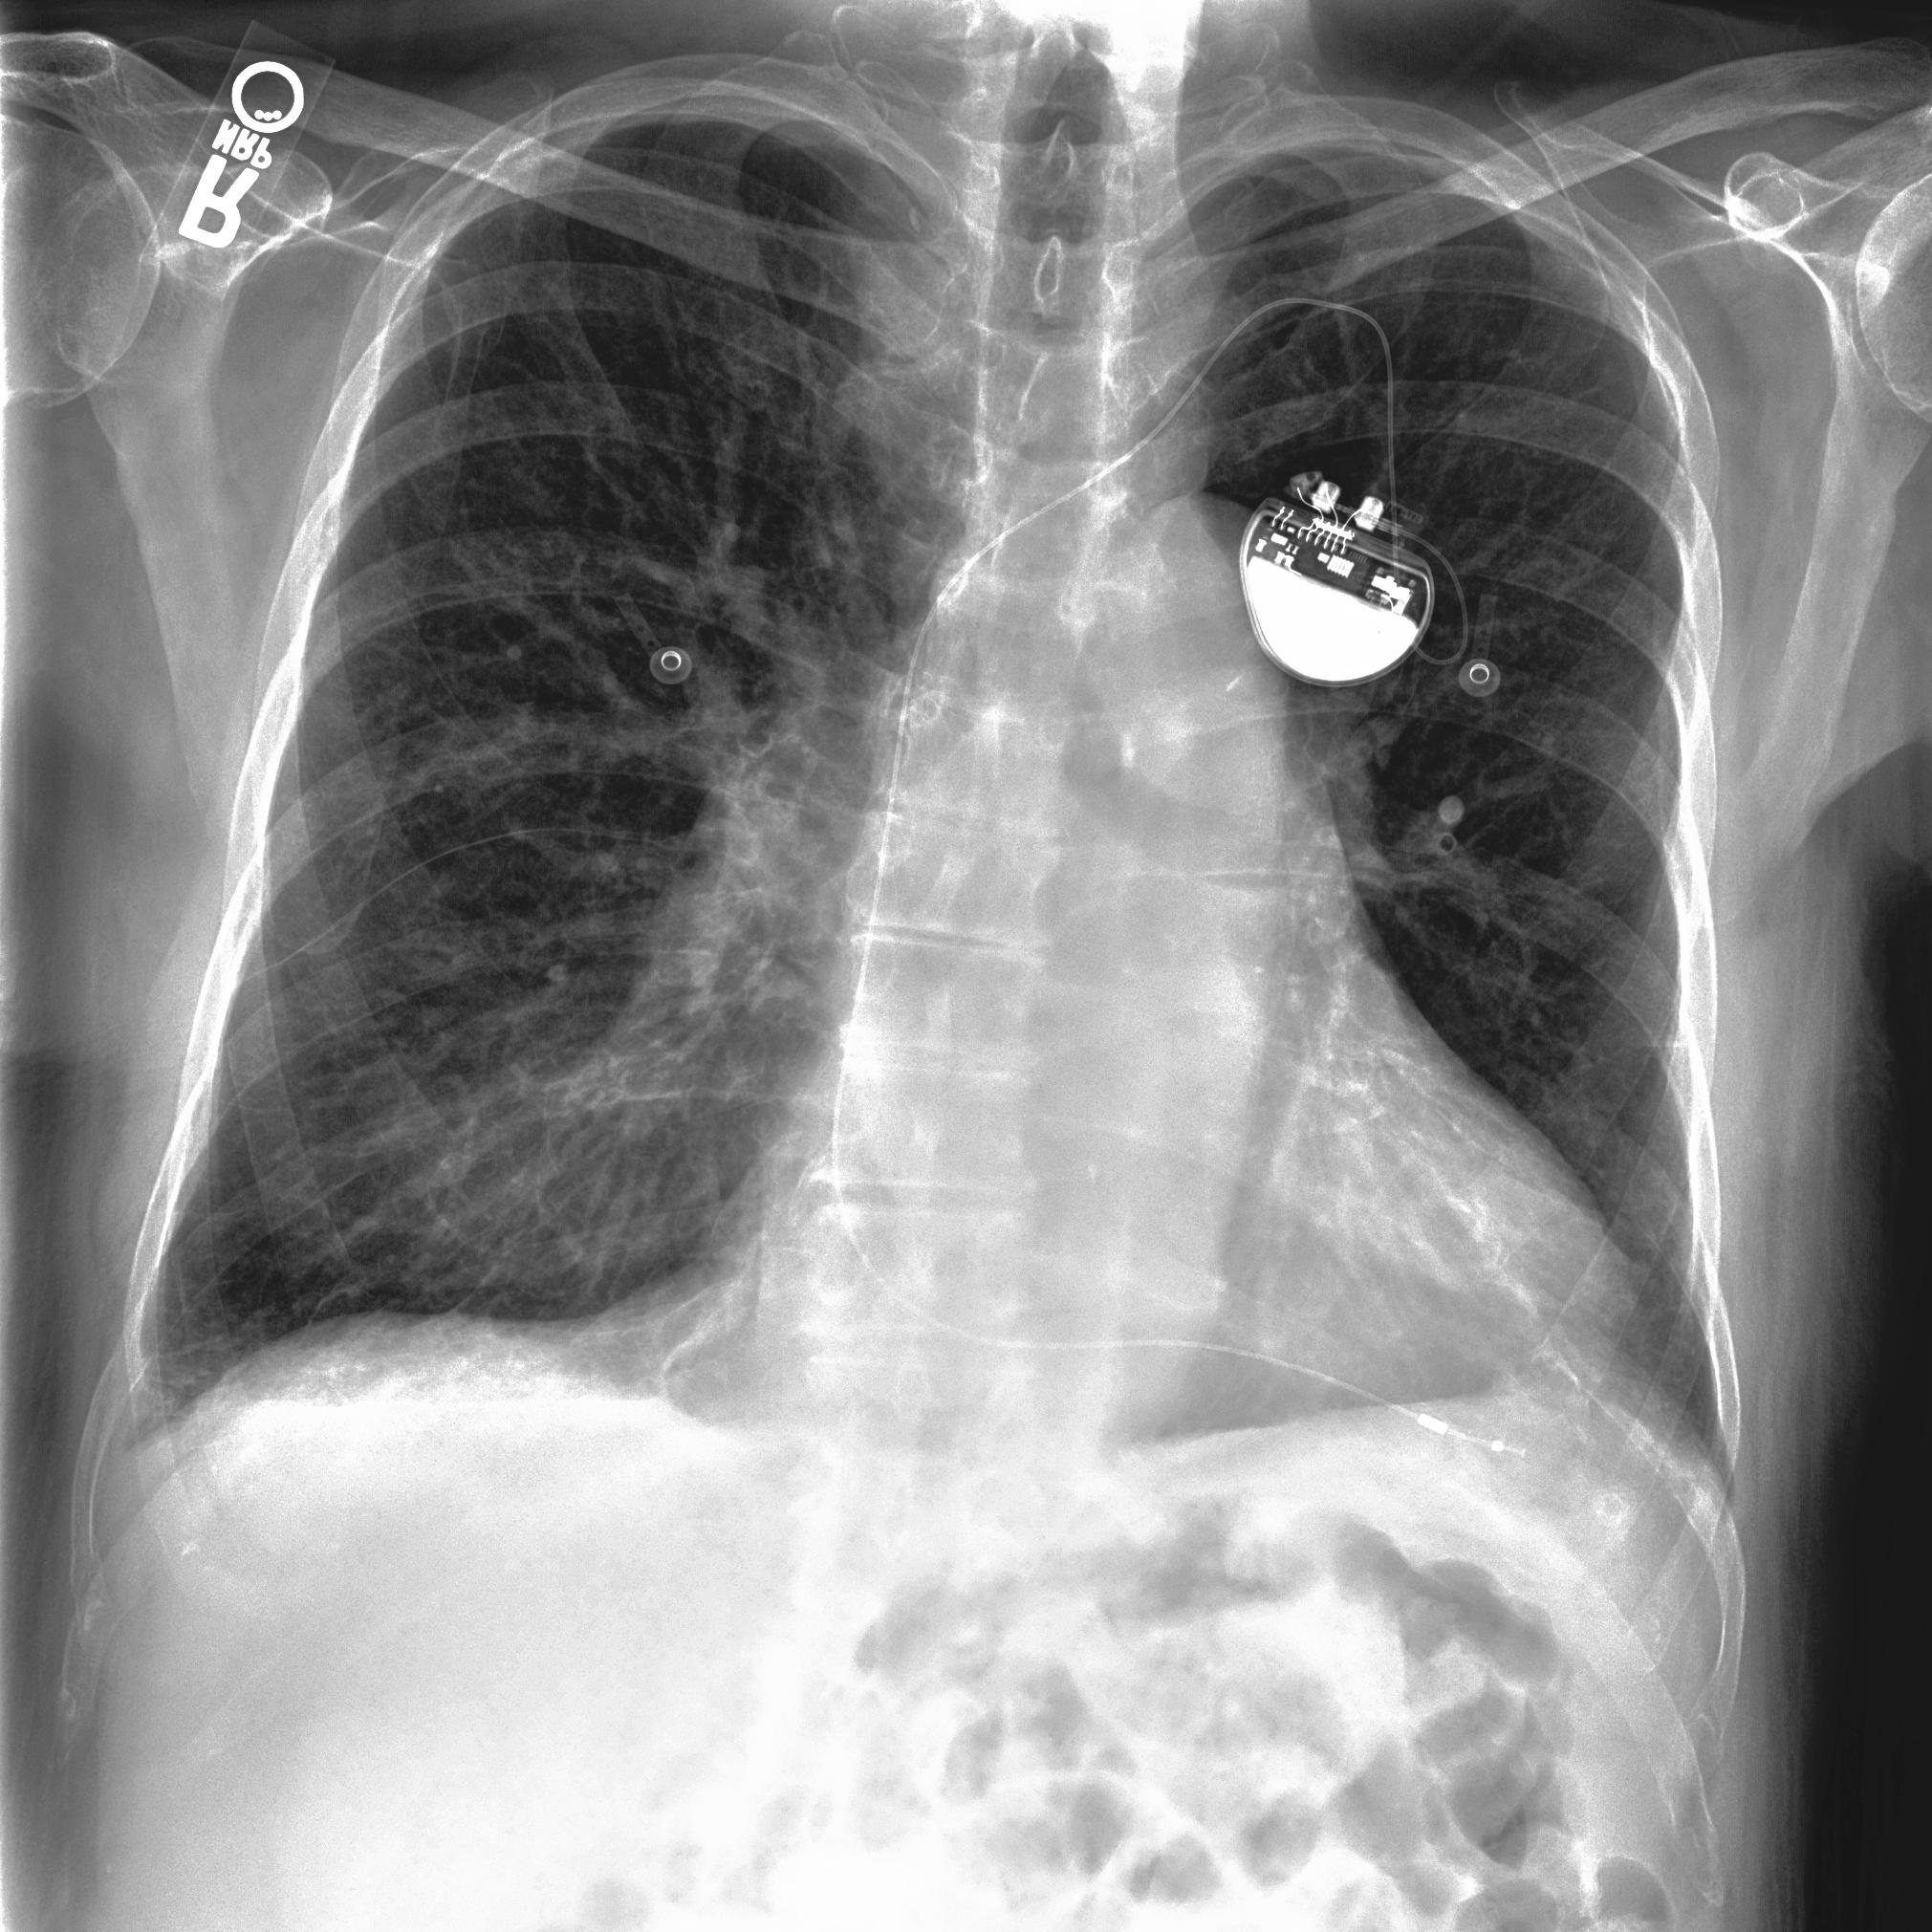Pleural Effusion: (81, 1327, 656, 1633)
